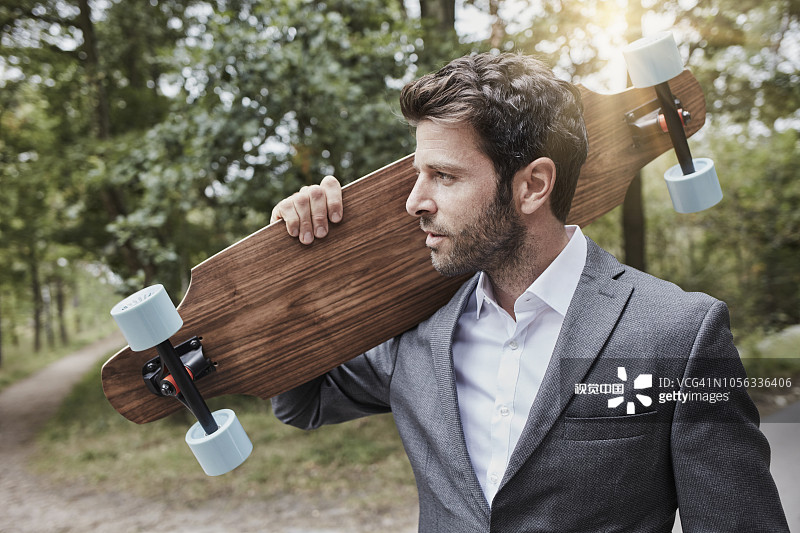no-phone: (257, 160, 354, 256)
